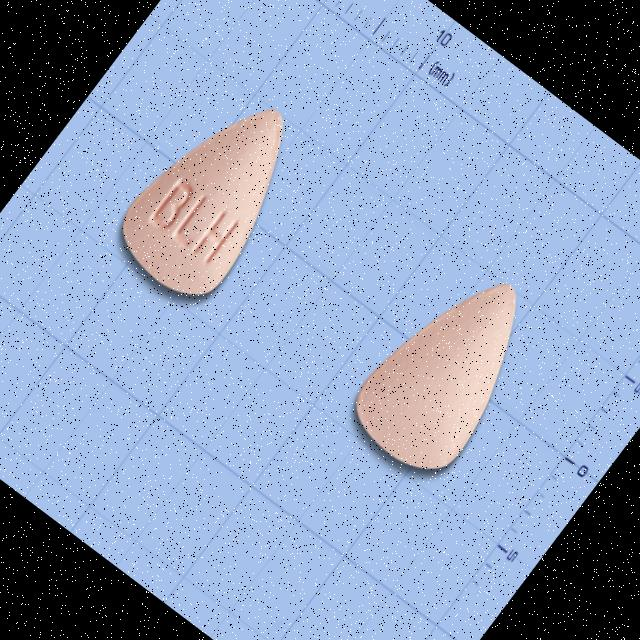Baracle: (96, 70, 332, 323)
